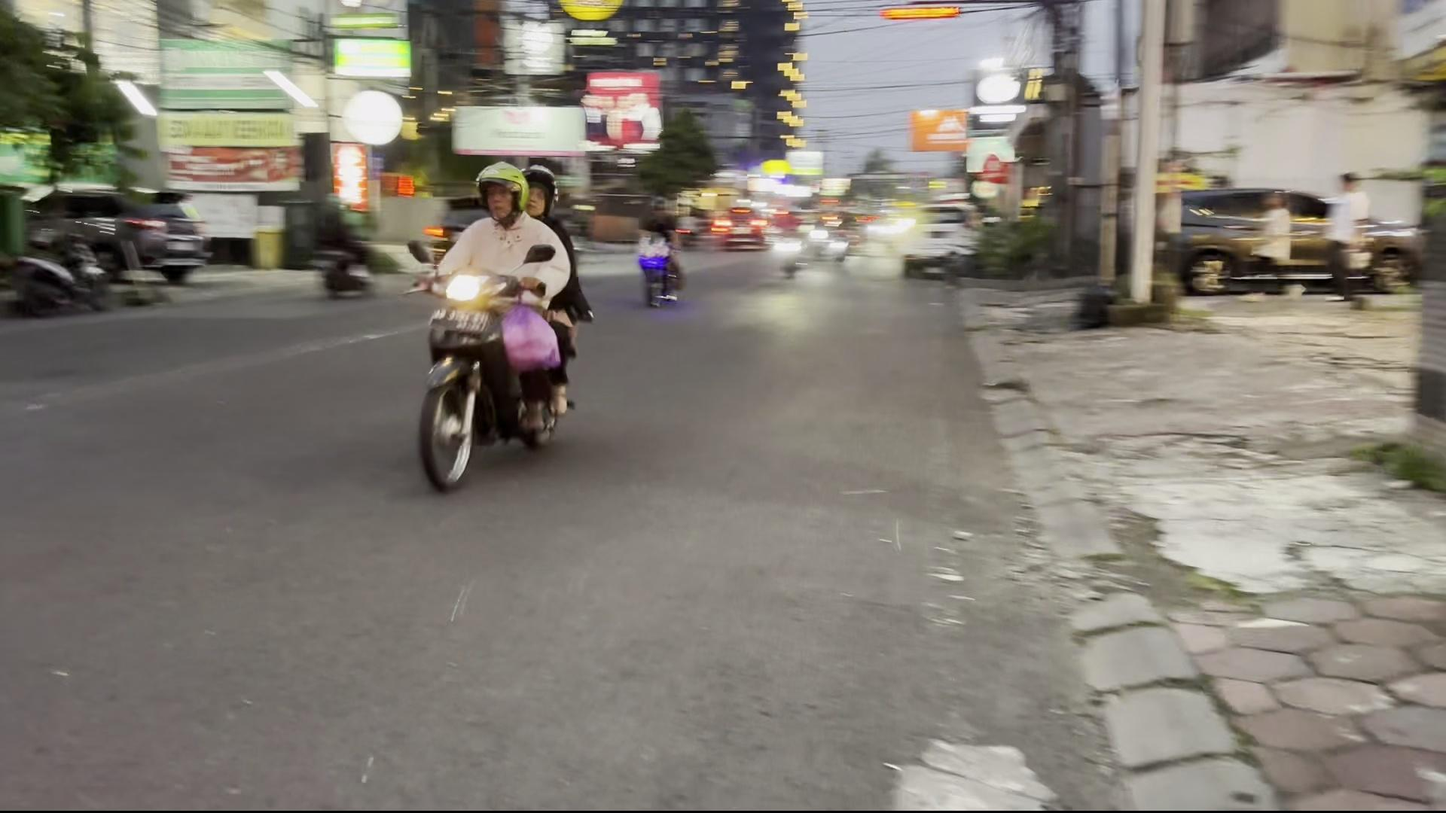helm: (473, 161, 531, 223)
riding: (395, 156, 599, 494)
